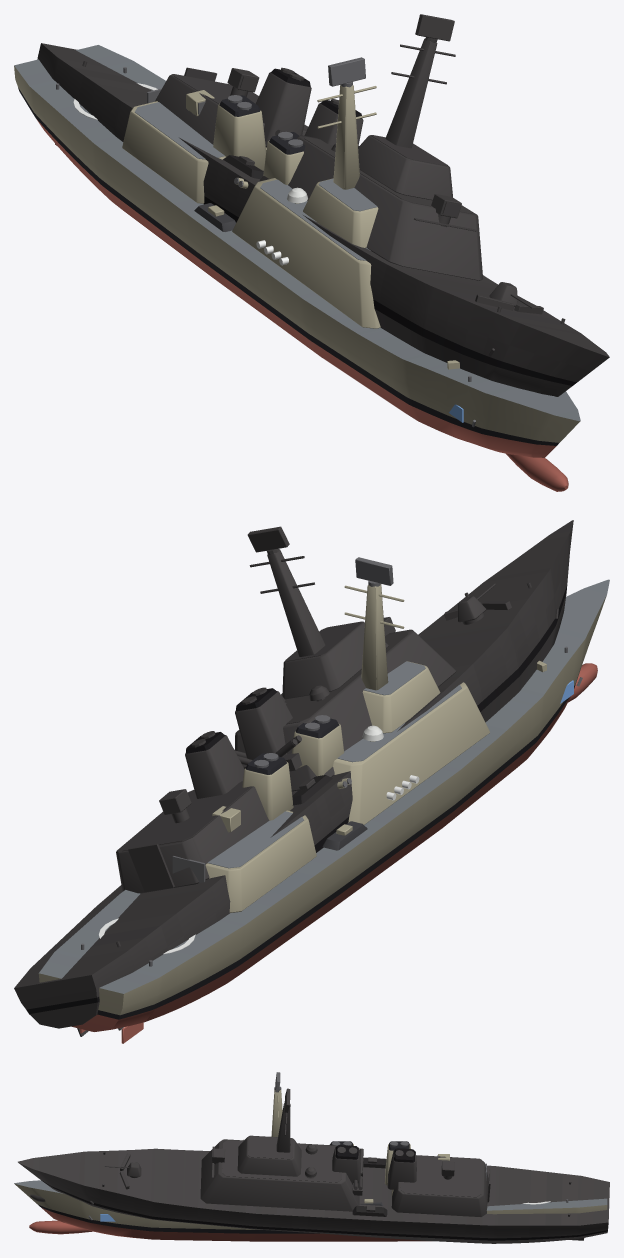
Rendered from corvette__k130_braunschweig.glb.
3 views of the same model, one above another, from view 1: azimuth 30°, elevation 25°; view 2: azimuth 150°, elevation 25°; view 3: azimuth 270°, elevation 25° (orthographic). The views are drawn at different scales.
Parts seen in each view (by area): view 1: Hull_Mesh, Wreck, Radar_Mesh; view 2: Hull_Mesh, Wreck, Radar_Mesh; view 3: Wreck, Hull_Mesh.
Boxes of the visible parts, left/top/right/bottom form: Hull_Mesh: left=14, top=45, right=580, bottom=491; Wreck: left=37, top=14, right=609, bottom=396; Radar_Mesh: left=328, top=57, right=365, bottom=87; Hull_Mesh: left=38, top=579, right=609, bottom=1043; Wreck: left=14, top=520, right=573, bottom=1036; Radar_Mesh: left=355, top=557, right=393, bottom=586; Wreck: left=18, top=1088, right=609, bottom=1243; Hull_Mesh: left=14, top=1090, right=607, bottom=1241.
Size of what is drawn, in the model's own units: 18.51 by 29.31 by 93.27.
